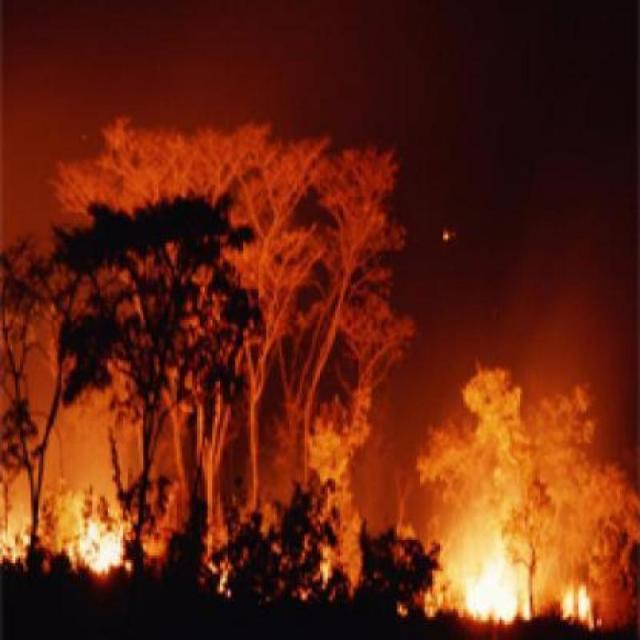Fire: (0, 485, 640, 640)
